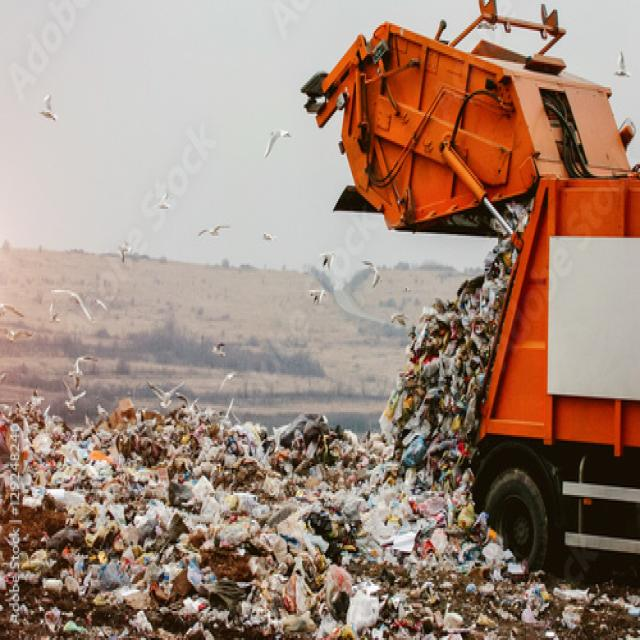trash: (13, 412, 452, 611), (390, 248, 516, 480), (464, 530, 534, 628)
